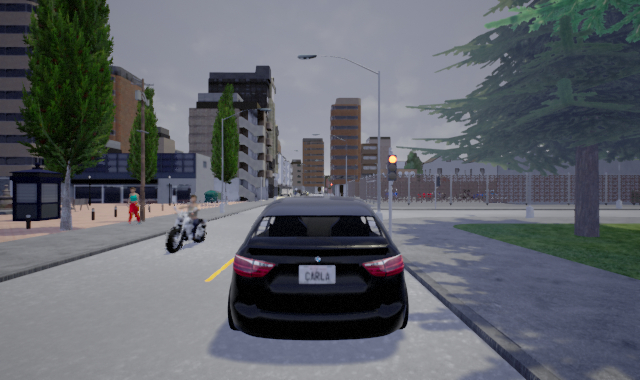motobike: (165, 193, 209, 254)
pedestrian: (123, 185, 145, 225)
traffic_light: (386, 154, 399, 182)
vehicle: (227, 196, 409, 341)
